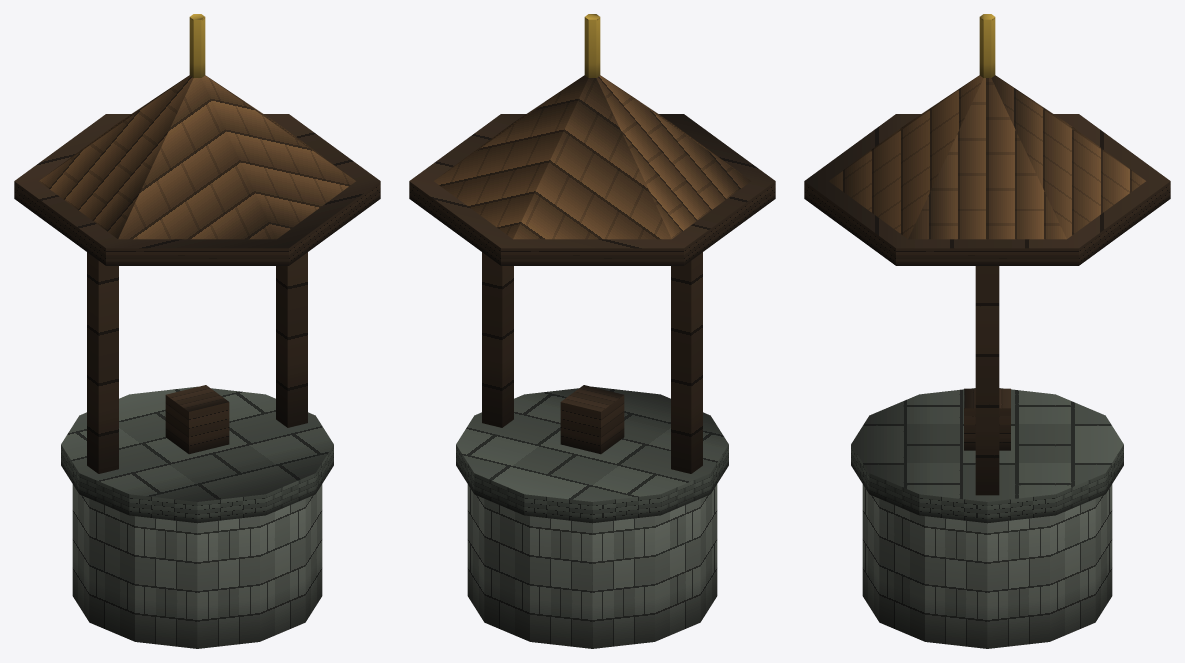
File: well_house.gltf
3 renders of one model, left to right at view 1: azimuth 30°, elevation 25°; view 2: azimuth 150°, elevation 25°; view 3: azimuth 270°, elevation 25°, orthographic.
Visible parts, largest first — view 1: well_house; view 2: well_house; view 3: well_house.
Part boxes in pixels (x1,y1,x2,y2): well_house: [14, 14, 380, 648]; well_house: [409, 14, 775, 648]; well_house: [804, 14, 1170, 648].
Size of the model in its own units: 0.8141 by 1.64 by 0.94.
1 material, 1 textured.
